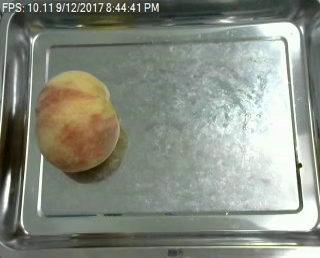Peach: (34, 69, 120, 173)
